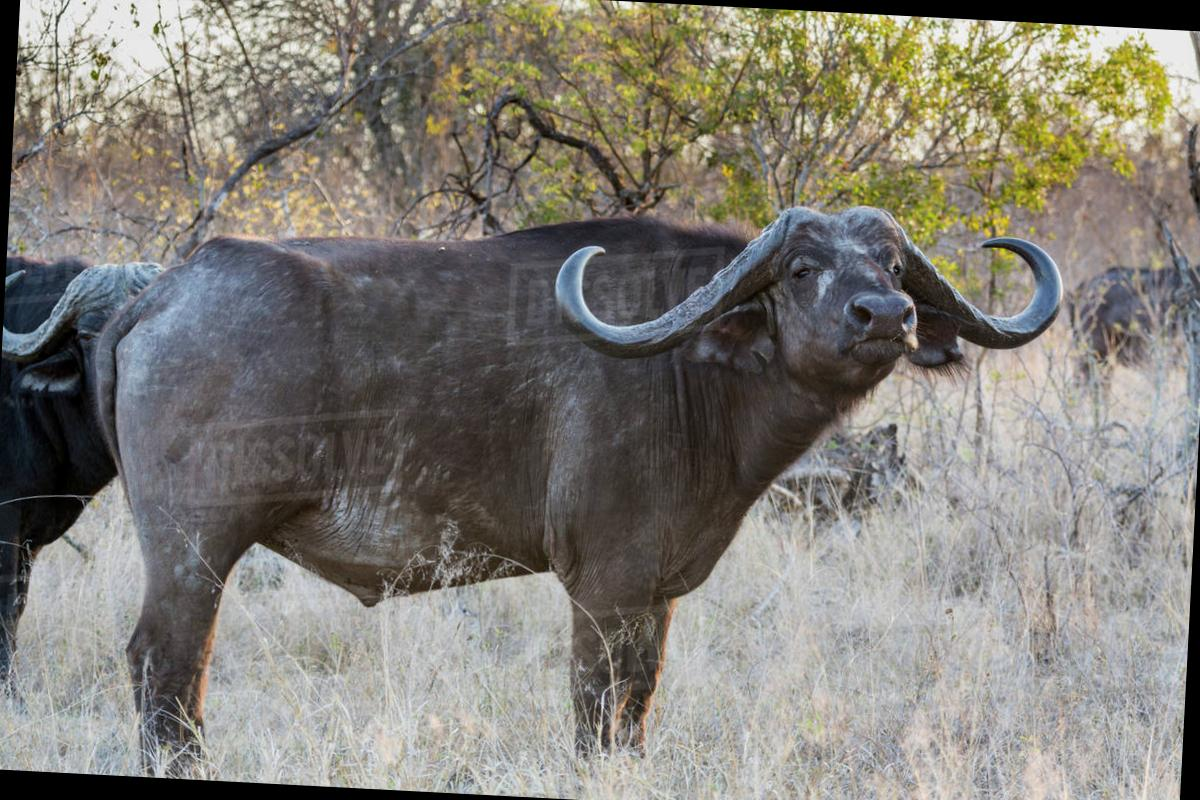Buffalo: (15, 127, 1046, 770)
